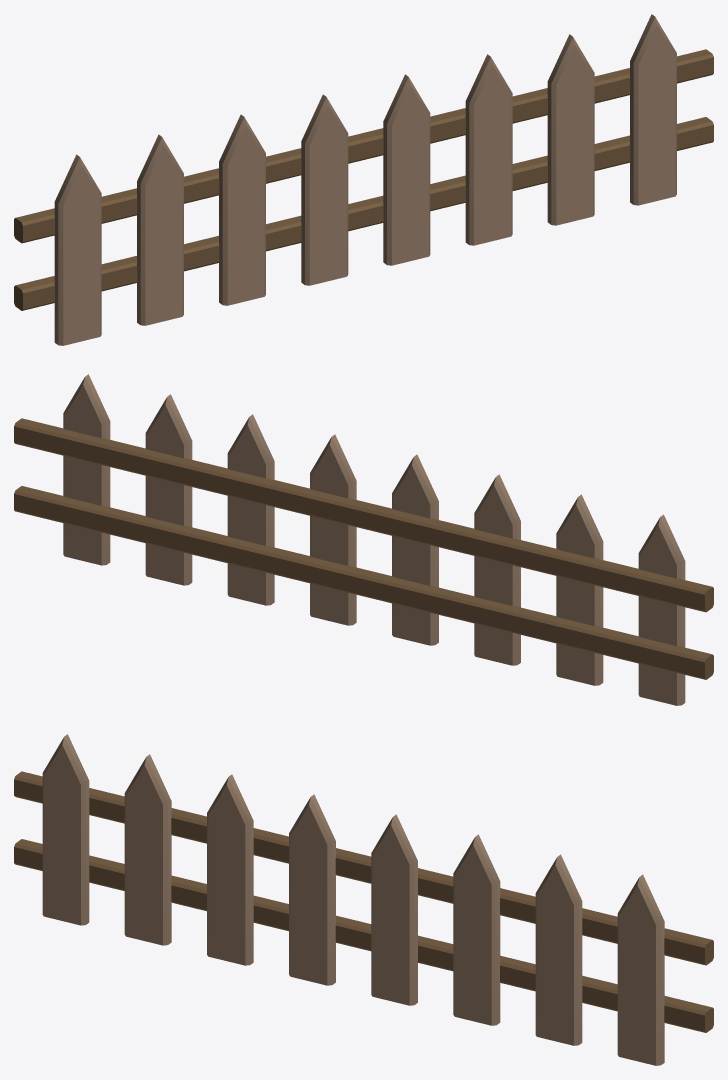
File: valla.fbx
The picture shows the model from 3 angles, top to bottom: view 1: azimuth 30°, elevation 25°; view 2: azimuth 150°, elevation 25°; view 3: azimuth 330°, elevation 25°; orthographic projection.
Parts seen in each view (by area): view 1: Valla_10, Valla_8, Valla_5, Valla_2, Valla_9, Valla_1, Valla_4, Valla_7, Valla_6, Valla_3; view 2: Valla_8, Valla_10, Valla_4, Valla_3, Valla_1, Valla_9, Valla_7, Valla_5, Valla_2, Valla_6; view 3: Valla_8, Valla_10, Valla_4, Valla_9, Valla_3, Valla_7, Valla_1, Valla_5, Valla_2, Valla_6.
Part boxes in pixels (x1,y1,x2,y2): Valla_10: (14, 117, 713, 310); Valla_8: (14, 49, 713, 243); Valla_5: (301, 94, 348, 285); Valla_2: (383, 74, 430, 265); Valla_9: (54, 154, 101, 345); Valla_1: (465, 54, 512, 245); Valla_4: (547, 34, 594, 225); Valla_7: (137, 134, 183, 325); Valla_6: (219, 114, 265, 305); Valla_3: (630, 14, 676, 205); Valla_8: (14, 418, 713, 612); Valla_10: (14, 486, 713, 679); Valla_4: (145, 394, 192, 585); Valla_3: (63, 374, 110, 565); Valla_1: (227, 414, 274, 605); Valla_9: (638, 514, 685, 705); Valla_7: (556, 494, 603, 685); Valla_5: (392, 454, 438, 645); Valla_2: (310, 434, 356, 625); Valla_6: (474, 474, 520, 665); Valla_8: (14, 771, 713, 965); Valla_10: (14, 839, 713, 1032); Valla_4: (535, 854, 582, 1045); Valla_9: (42, 734, 89, 925); Valla_3: (617, 874, 664, 1065); Valla_7: (124, 754, 171, 945); Valla_1: (453, 834, 500, 1025); Valla_5: (289, 794, 335, 985); Valla_2: (371, 814, 417, 1005); Valla_6: (207, 774, 253, 965).
Bounding box in the file's own units: 400 × 101 × 14.3.
